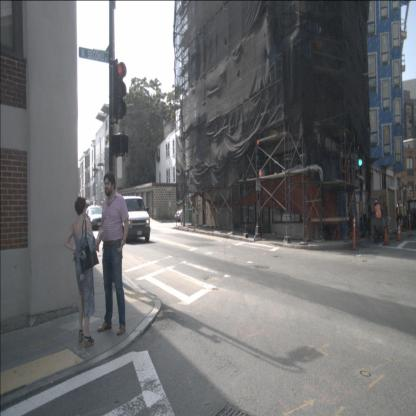cone: (351, 214, 359, 251), (382, 225, 390, 245), (408, 211, 414, 236), (396, 223, 402, 242), (400, 220, 403, 230)
